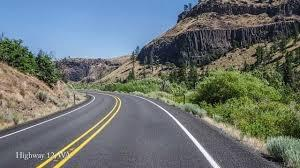road: (63, 93, 210, 167), (0, 92, 114, 166), (156, 102, 279, 167)
